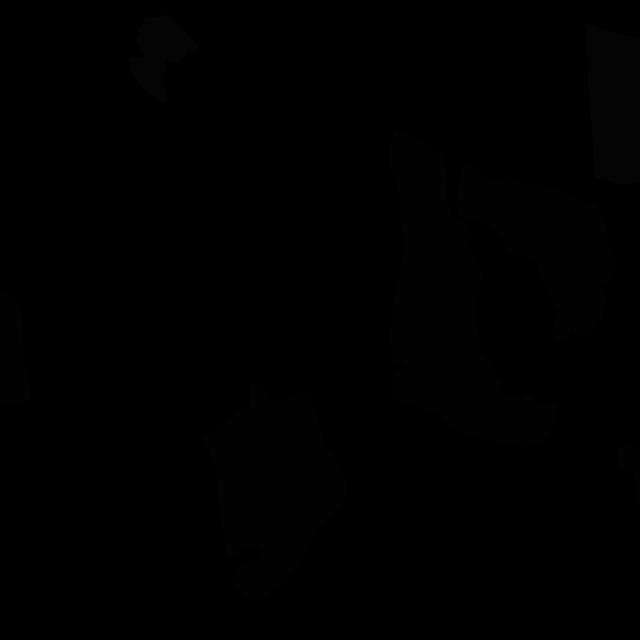cardboard: (389, 129, 558, 448), (202, 381, 347, 604), (456, 165, 618, 283), (538, 263, 606, 343), (0, 290, 31, 406), (617, 445, 640, 505)
soft_plastic: (586, 23, 640, 184), (128, 13, 198, 103)
